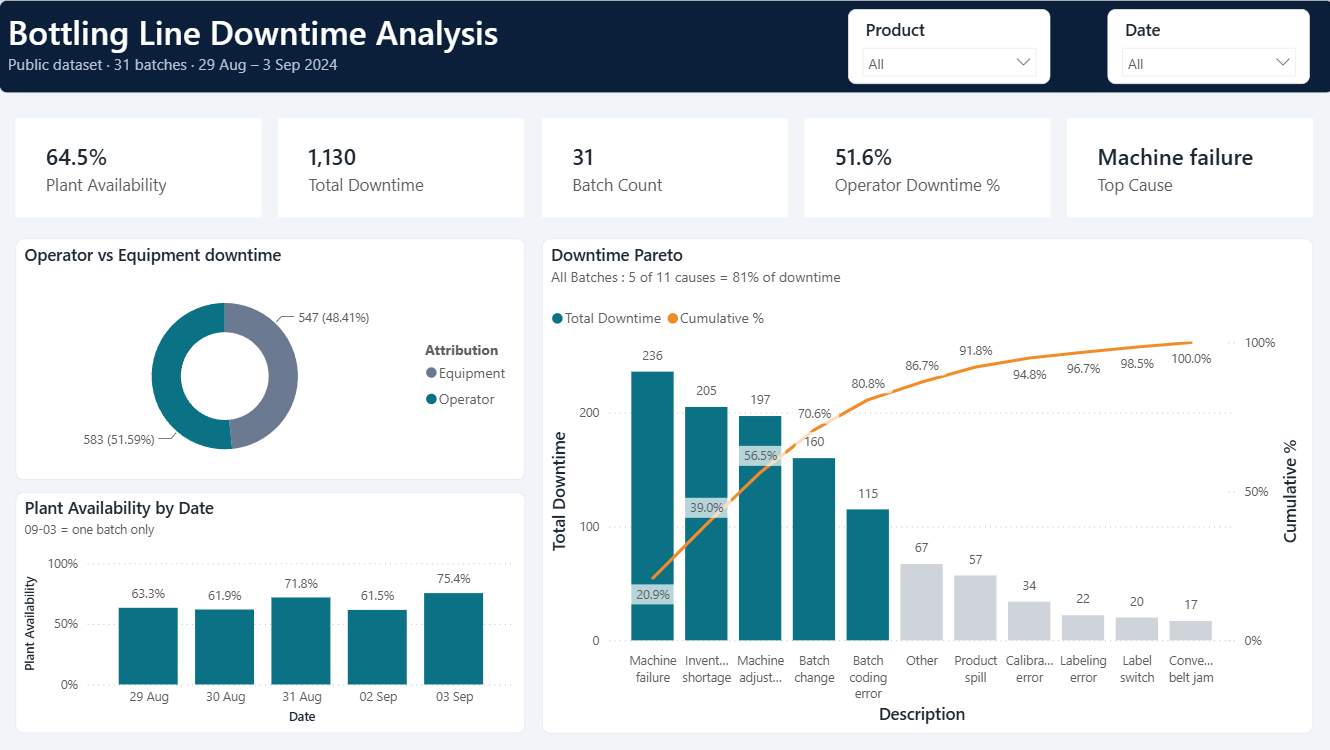

Layout of this report page (visuals, bound fields, positions):
{"tool":"powerbi","page":{"name":"Page 1","canvas":[1280,720],"ordinal":0},"visuals":[{"type":"cardVisual","fields":{"Data":["batches_clean.Plant Availability"]},"box":[15.8,113.6,235.9,94.9],"z":0},{"type":"cardVisual","fields":{"Data":["batches_clean.Total Downtime"]},"box":[267.5,113.6,235.9,94.9],"z":1000},{"type":"cardVisual","fields":{"Data":["batches_clean.Operator Downtime %"]},"box":[772.3,113.6,235.9,94.9],"z":2000},{"type":"cardVisual","fields":{"Data":["batches_clean.Batch Count"]},"box":[520.6,113.6,235.9,94.9],"z":3000},{"type":"lineClusteredColumnComboChart","title":"Downtime Pareto","fields":{"Category":["downtime_long.Description"],"Y":["batches_clean.Total Downtime"],"Y2":["batches_clean.Cumulative %"]},"box":[520.6,228.7,739.2,474.6],"z":4000},{"type":"donutChart","title":"Operator vs Equipment downtime","fields":{"Y":["batches_clean.Total Downtime"],"Series":["downtime_long.Attribution"]},"box":[15.8,228.7,489,231.5],"z":5000},{"type":"clusteredColumnChart","fields":{"Category":["batches_clean.Date"],"Y":["batches_clean.Plant Availability"]},"box":[15.8,471.7,489,231.5],"z":6000},{"type":"textbox","box":[0,0,1279.9,89.2],"z":7000},{"type":"slicer","fields":{"Values":["batches_clean.Date","batches_clean.Product"]},"box":[1062.8,8.6,194.1,71.9],"z":8000},{"type":"cardVisual","fields":{"Data":["batches_clean.Top Cause"]},"box":[1023.9,113.6,235.9,94.9],"z":9000},{"type":"slicer","fields":{"Values":["batches_clean.Product"]},"box":[814,8.6,194.1,71.9],"z":10000}]}

Visuals, with their boxes in screenshot pixels (x1, y1, x2, y2), scaled from the page's 1280x720 canvas onto the 1330x750 screenshot:
cardVisual - batches_clean.Plant Availability: rect(16, 118, 262, 217)
cardVisual - batches_clean.Total Downtime: rect(278, 118, 523, 217)
cardVisual - batches_clean.Operator Downtime %: rect(802, 118, 1048, 217)
cardVisual - batches_clean.Batch Count: rect(541, 118, 786, 217)
"Downtime Pareto" lineClusteredColumnComboChart: rect(541, 238, 1309, 733)
"Operator vs Equipment downtime" donutChart: rect(16, 238, 525, 479)
clusteredColumnChart - batches_clean.Date x batches_clean.Plant Availability: rect(16, 491, 525, 733)
textbox: rect(0, 0, 1329, 93)
slicer - batches_clean.Date x batches_clean.Product: rect(1104, 9, 1306, 84)
cardVisual - batches_clean.Top Cause: rect(1064, 118, 1309, 217)
slicer - batches_clean.Product: rect(846, 9, 1047, 84)
